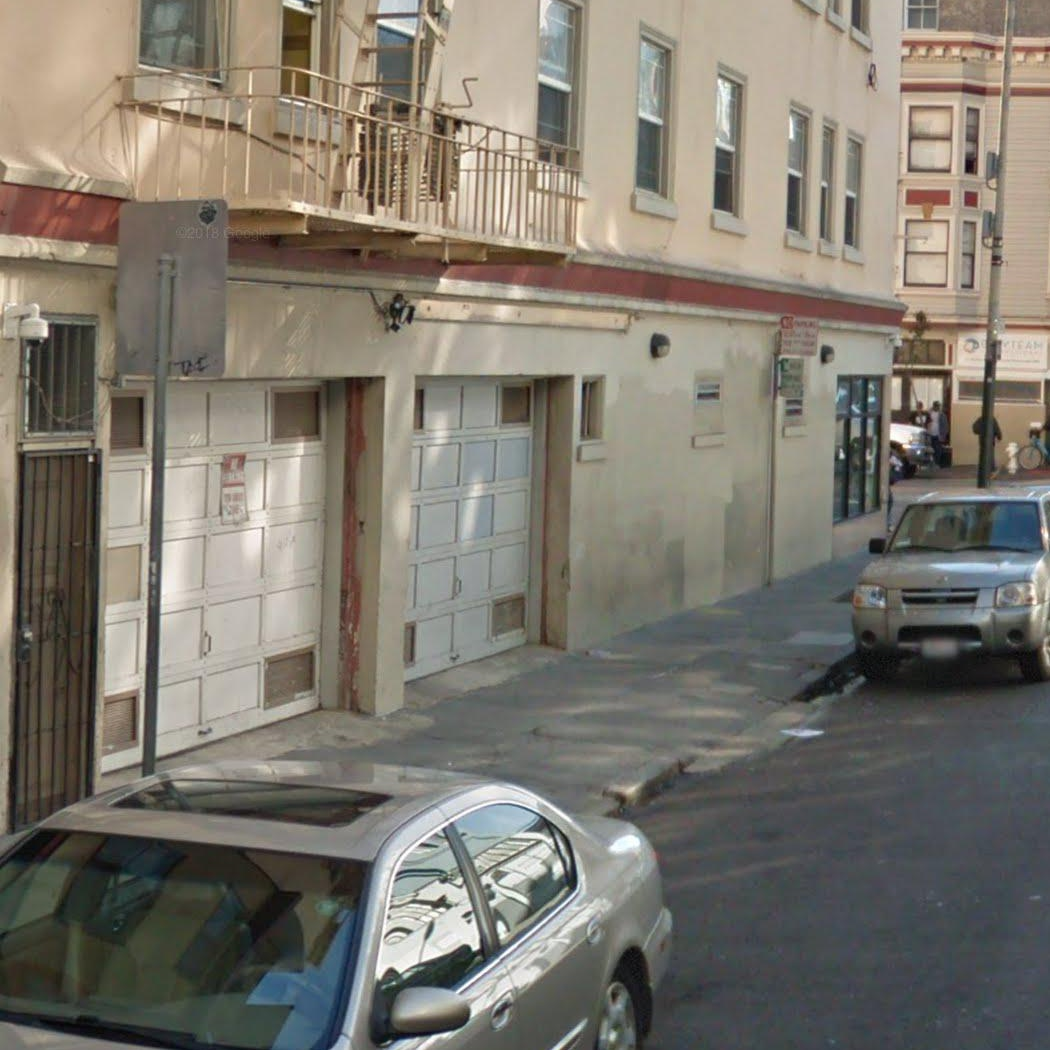1 Hour Parking: (779, 357, 806, 399)
No Parking: (779, 314, 820, 358)
